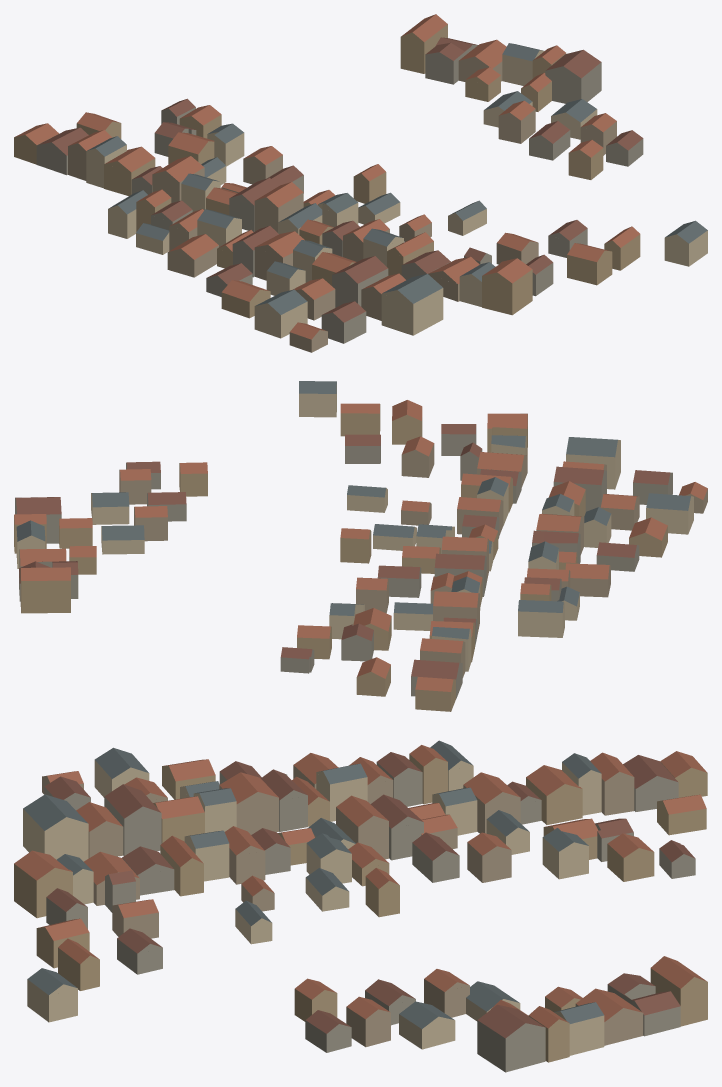
3 renders of one model, top to bottom at view 1: azimuth 30°, elevation 25°; view 2: azimuth 150°, elevation 25°; view 3: azimuth 270°, elevation 25°, orthographic. The views are drawn at different scales.
Visible parts, largest first — view 1: C_4_-2; view 2: C_4_-2; view 3: C_4_-2.
Part boxes in pixels (bbox=[...]): C_4_-2: bbox=[14, 14, 707, 352]; C_4_-2: bbox=[14, 381, 707, 711]; C_4_-2: bbox=[14, 740, 707, 1072].
Size of the model in its own units: 194 by 14.56 by 191.
